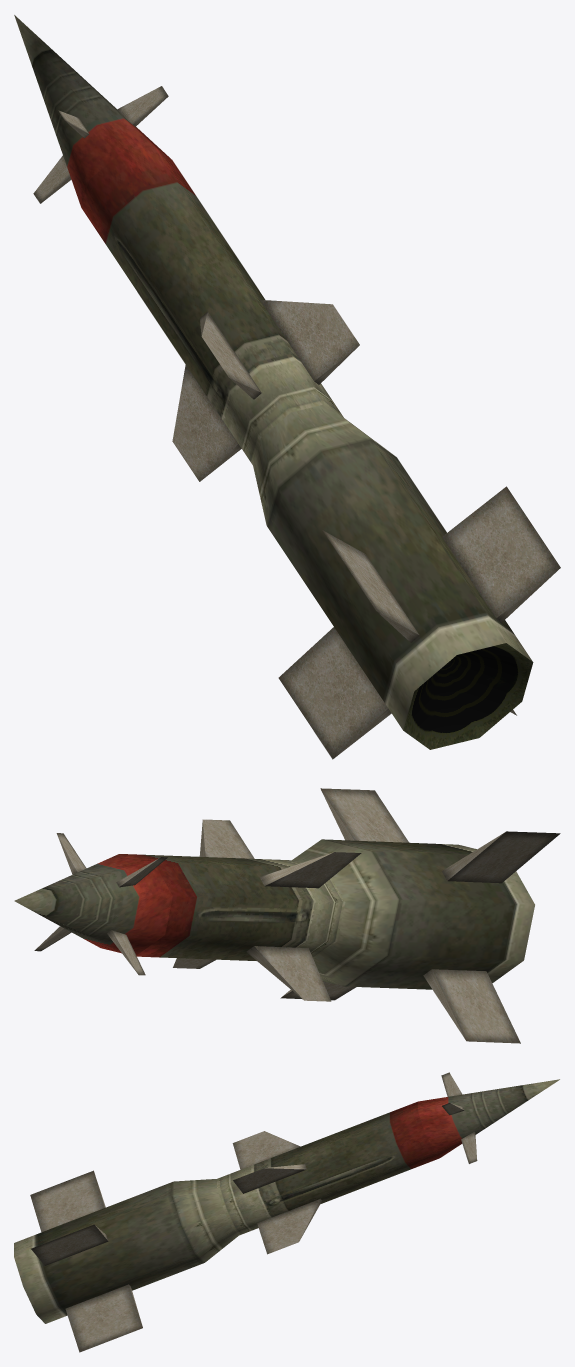
Rendered from MISSILE.glb.
The picture shows the model from 3 angles, top to bottom: view 1: azimuth 30°, elevation 25°; view 2: azimuth 150°, elevation 25°; view 3: azimuth 270°, elevation 25°; orthographic projection. The views are drawn at different scales.
Parts seen in each view (by area): view 1: MISSILE; view 2: MISSILE; view 3: MISSILE.
Part boxes in pixels (left/top/right/bottom): MISSILE: left=14, top=15, right=560, bottom=759; MISSILE: left=14, top=788, right=560, bottom=1043; MISSILE: left=14, top=1072, right=559, bottom=1352.
Bounding box in the file's own units: 0.826 × 1.79 × 3.58.
Materials: 5 (5 with a texture image).
